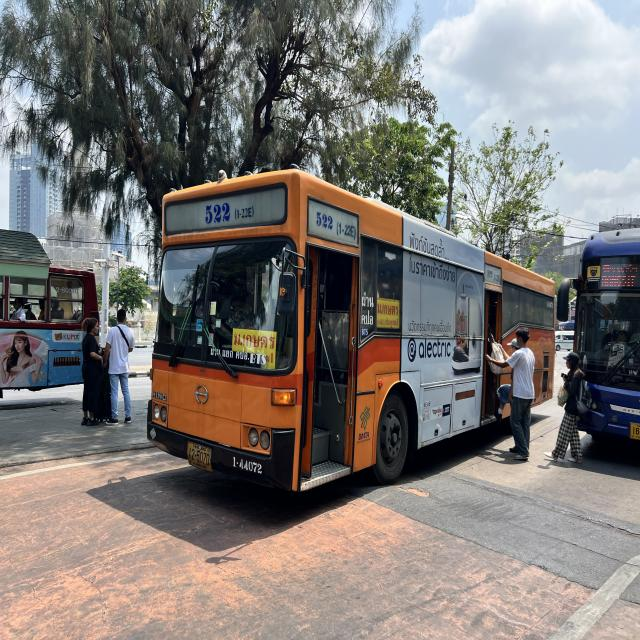BMTA-bus: (147, 170, 558, 496)
Bus-Line-Number: (203, 201, 258, 226)
Destination-Sign-Extra-Bus-Expressway: (233, 326, 277, 373)
Destination-Sign-Normal: (600, 256, 640, 289)
TSB-Bus: (567, 217, 640, 441)
